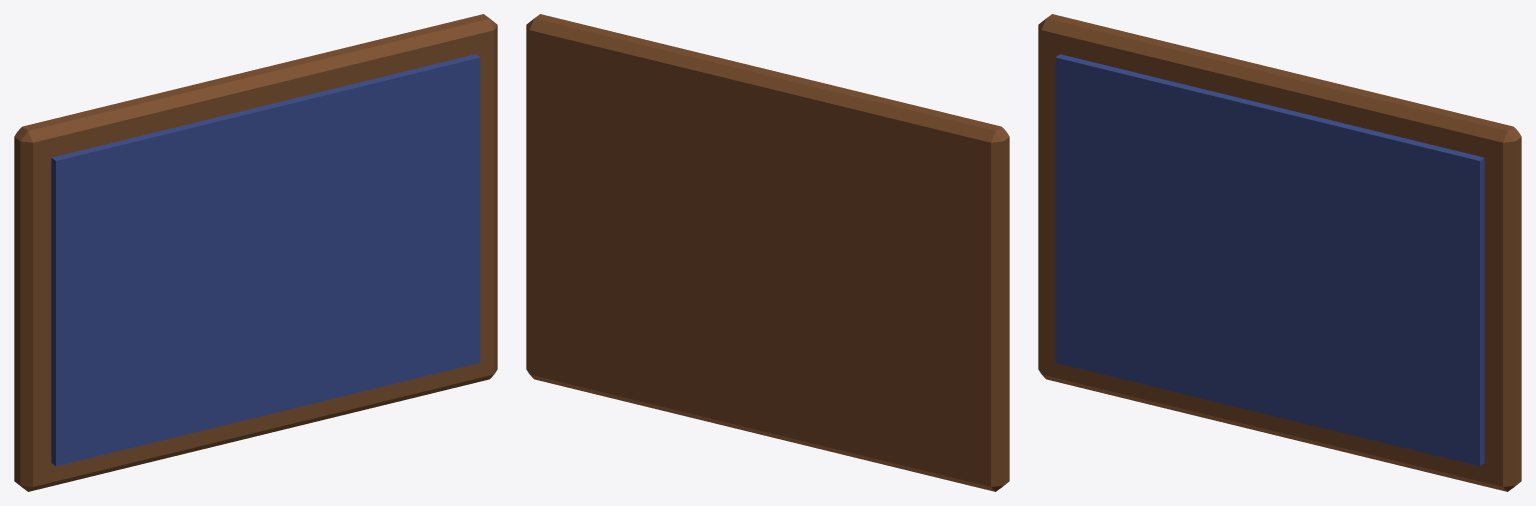
File: arcade_poster_wide.glb
The picture shows the model from 3 angles, left to right: view 1: azimuth 30°, elevation 25°; view 2: azimuth 150°, elevation 25°; view 3: azimuth 330°, elevation 25°; orthographic projection.
Parts seen in each view (by area): view 1: arcade_poster_wide; view 2: arcade_poster_wide; view 3: arcade_poster_wide.
Boxes of the visible parts, left/top/right/bottom form: arcade_poster_wide: left=14, top=14, right=497, bottom=491; arcade_poster_wide: left=526, top=14, right=1009, bottom=491; arcade_poster_wide: left=1038, top=14, right=1521, bottom=491.
Bounding box in the file's own units: 0.9 × 0.65 × 0.065.
